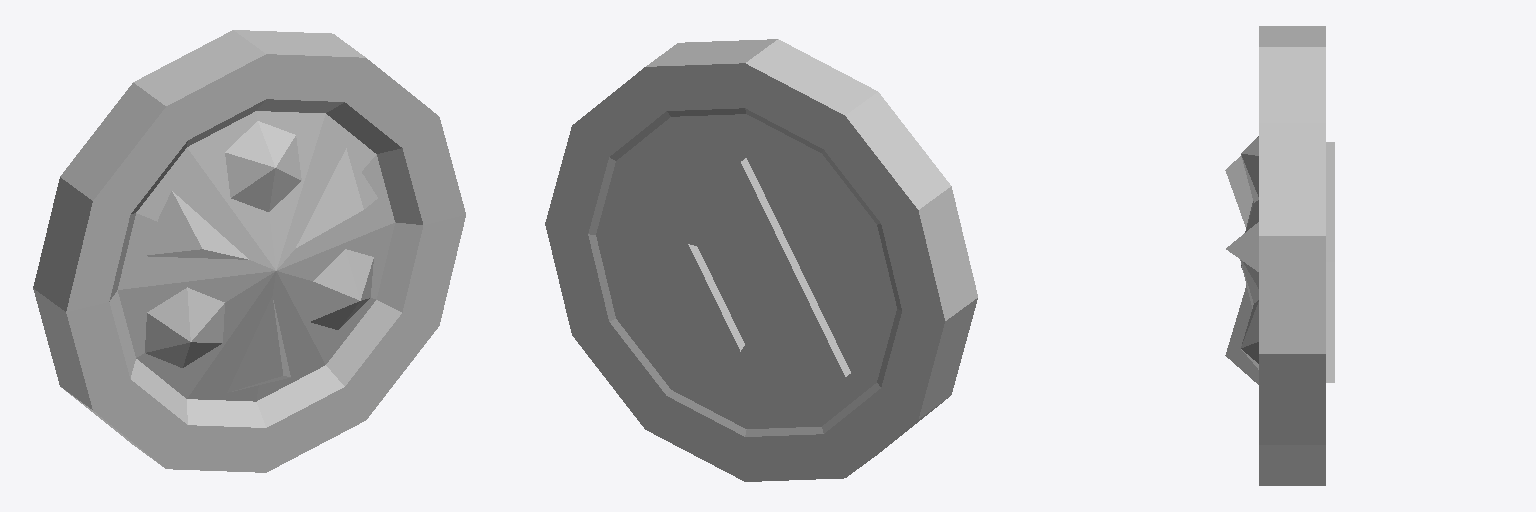
The model's file is Light Medallion.obj.
3 renders of one model, left to right at view 1: azimuth 30°, elevation 25°; view 2: azimuth 150°, elevation 25°; view 3: azimuth 270°, elevation 25°, orthographic.
Parts seen in each view (by area): view 1: lightmedal_geom-018F0051; view 2: lightmedal_geom-018F0051; view 3: lightmedal_geom-018F0051.
Boxes of the visible parts, x1,y1,x2,y2 form: lightmedal_geom-018F0051: [33, 30, 465, 472]; lightmedal_geom-018F0051: [545, 39, 977, 481]; lightmedal_geom-018F0051: [1225, 26, 1334, 485].
Size of the model in its own units: 0.779 by 0.779 by 0.1844.